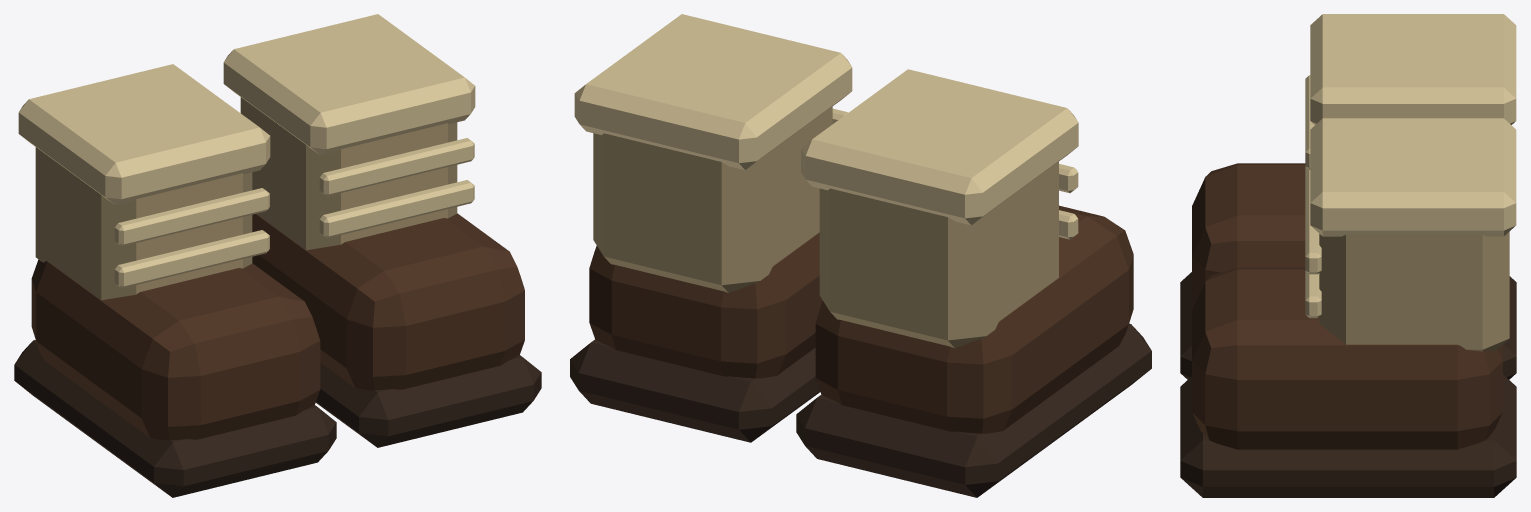
File: SM_NPC_Feet_02_Wrapped.glb
The picture shows the model from 3 angles, left to right: view 1: azimuth 30°, elevation 25°; view 2: azimuth 150°, elevation 25°; view 3: azimuth 270°, elevation 25°; orthographic projection. The views are drawn at different scales.
Parts seen in each view (by area): view 1: SM_NPC_Feet_02_Wrapped; view 2: SM_NPC_Feet_02_Wrapped; view 3: SM_NPC_Feet_02_Wrapped.
Boxes of the visible parts, x1=… form: SM_NPC_Feet_02_Wrapped: x1=14, y1=14, x2=541, y2=497; SM_NPC_Feet_02_Wrapped: x1=570, y1=14, x2=1151, y2=497; SM_NPC_Feet_02_Wrapped: x1=1180, y1=14, x2=1516, y2=497.
Bounding box in the file's own units: 0.454 × 0.328 × 0.327.
